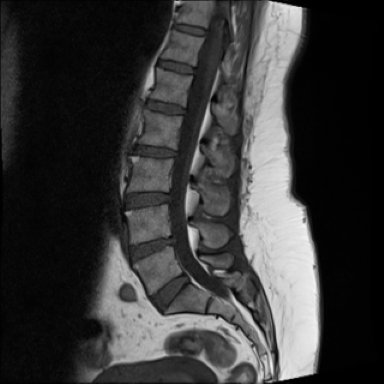Lumbar Disc Bulge (LDB): (125, 229, 180, 269), (126, 145, 184, 162)
Normal IVD: (147, 273, 195, 319), (123, 186, 177, 211), (154, 55, 200, 79), (144, 95, 190, 118), (170, 21, 210, 39)
Spinal Stenosis (SS): (165, 226, 180, 250)
